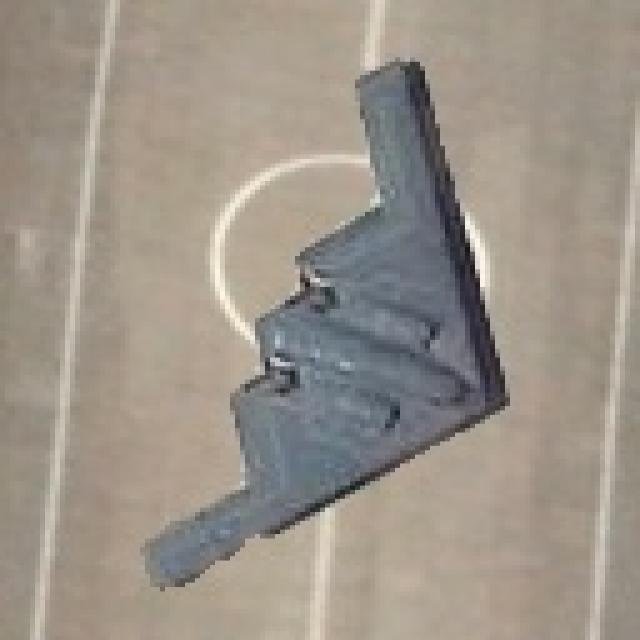B-2_TopDown: (135, 49, 510, 592)
